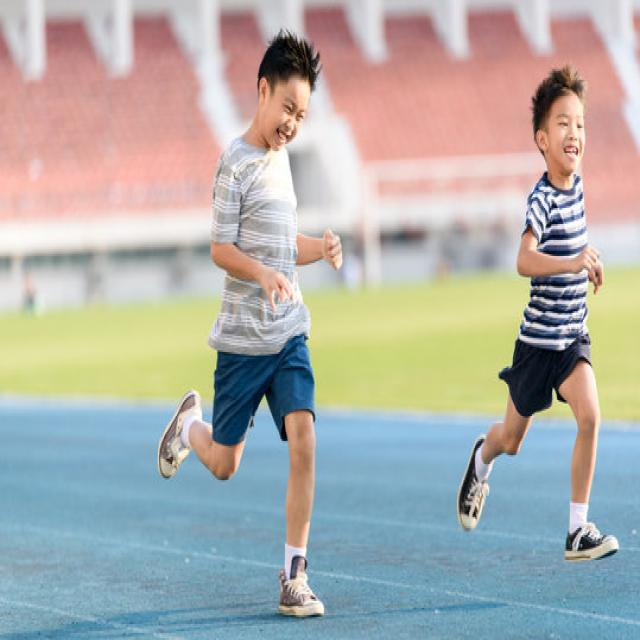Person: (156, 30, 344, 621), (458, 68, 620, 565)
